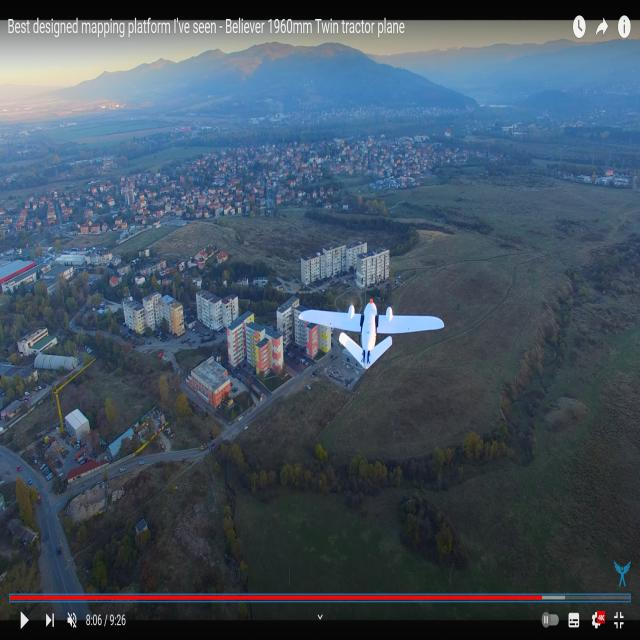iha: (306, 305, 439, 369)
